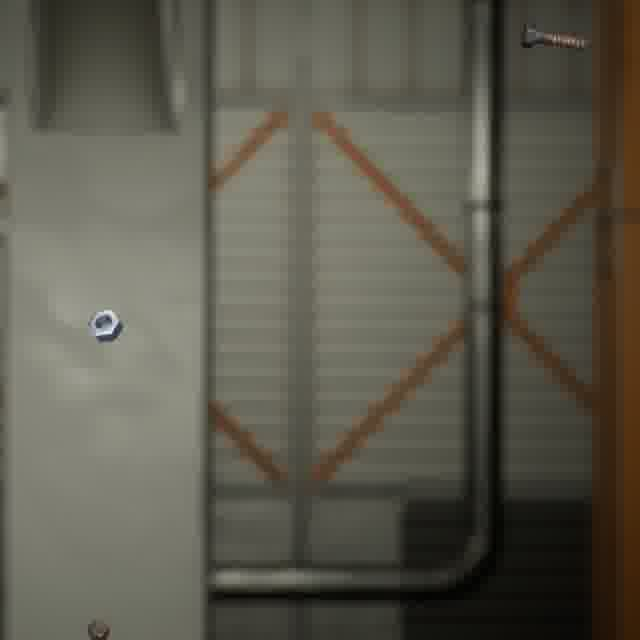bolt: (517, 17, 594, 54), (82, 615, 114, 640)
nut: (83, 305, 127, 346)
